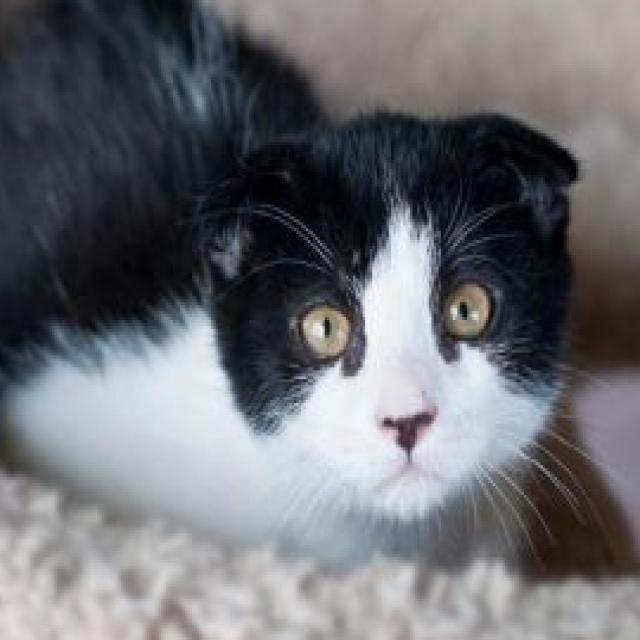Scottish Fold: (0, 0, 583, 572)
